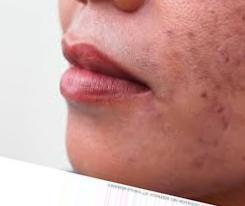Acne: (180, 22, 239, 142)
